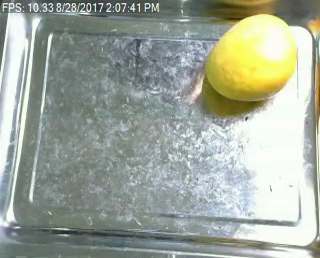Mango: (202, 11, 300, 102)
